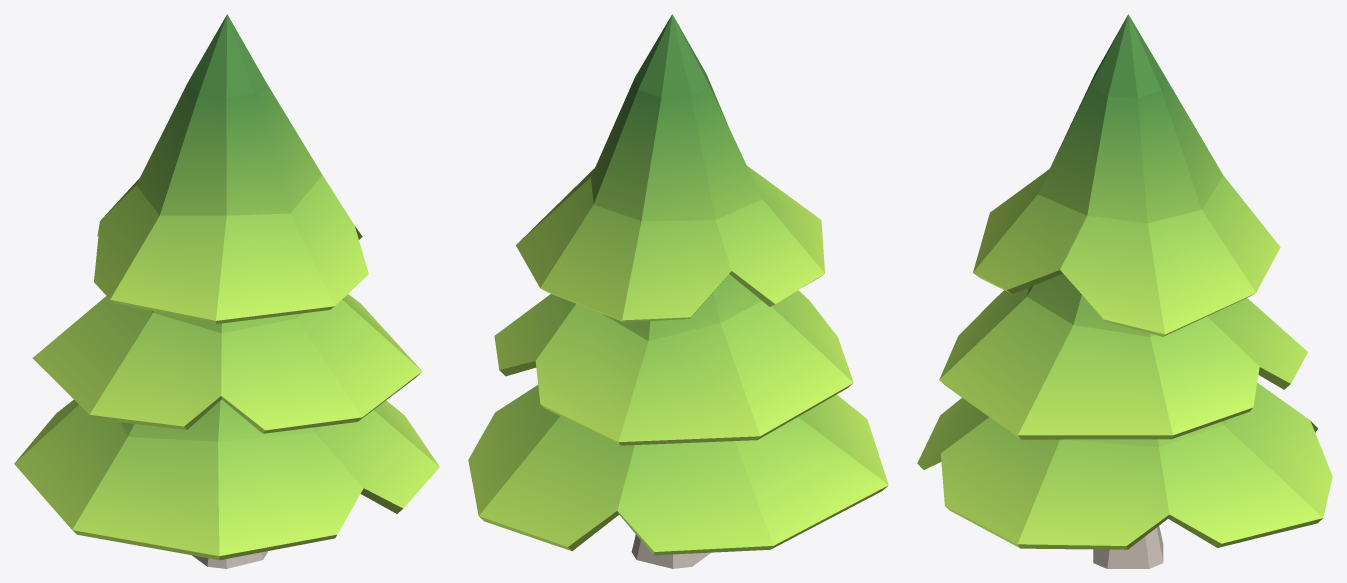
File: GreenPine1.fbx
The picture shows the model from 3 angles, left to right: view 1: azimuth 30°, elevation 25°; view 2: azimuth 150°, elevation 25°; view 3: azimuth 270°, elevation 25°; orthographic projection.
Parts seen in each view (by area): view 1: GreenPine1; view 2: GreenPine1; view 3: GreenPine1.
Part boxes in pixels (x1,y1,x2,y2): GreenPine1: [14, 14, 439, 568]; GreenPine1: [468, 14, 888, 568]; GreenPine1: [917, 14, 1332, 568].
Size of the model in its own units: 432 by 613 by 428.
